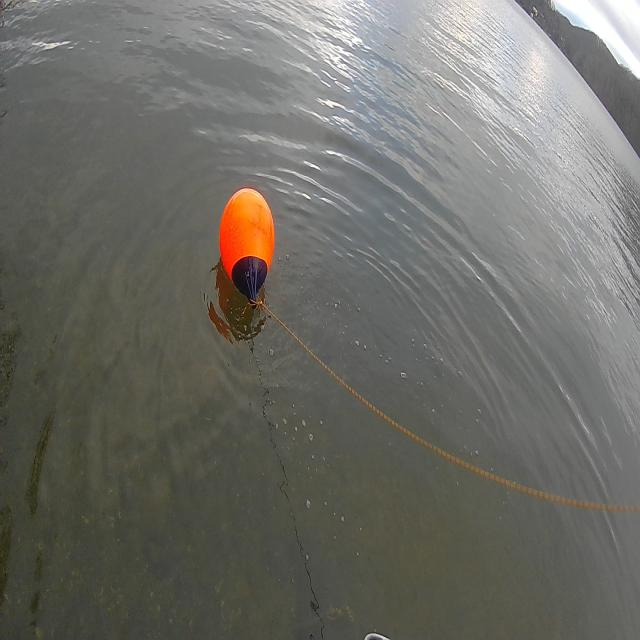Buoy: (214, 178, 279, 307)
